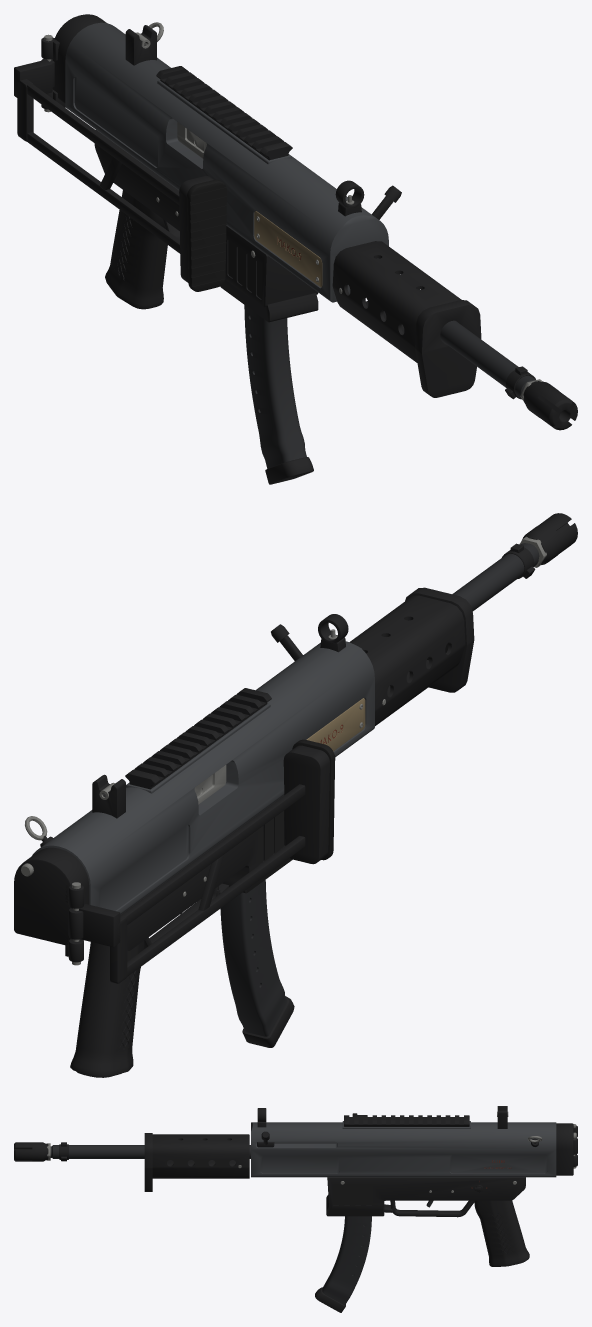
File: Mako9.fbx
The picture shows the model from 3 angles, top to bottom: view 1: azimuth 30°, elevation 25°; view 2: azimuth 150°, elevation 25°; view 3: azimuth 270°, elevation 25°; orthographic projection. The views are drawn at different scales.
Parts seen in each view (by area): view 1: RBX_Body_Graphite, RBX_Body_PolyBlack, RBX_Body_Blackened, RBX_MAKO9_Stock_Blackened, RBX_MAKO9_Magazine_DarkSteel, RBX_MAKO9_Stock_Rubber, RBX_Body_DarkSteel, RBX_Body_PolyTan, RBX_MAKO9_Stock_PolyBlack, RBX_MAKO9_Magazine_PolyBlack, RBX_Body_Steel; view 2: RBX_Body_Graphite, RBX_Body_PolyBlack, RBX_Body_Blackened, RBX_MAKO9_Stock_Blackened, RBX_MAKO9_Magazine_DarkSteel, RBX_MAKO9_Stock_PolyBlack, RBX_Body_DarkSteel, RBX_Body_PolyTan, RBX_Body_Steel, RBX_MAKO9_Stock_Rubber, RBX_MAKO9_Magazine_PolyBlack; view 3: RBX_Body_Graphite, RBX_Body_PolyBlack, RBX_Body_Blackened, RBX_MAKO9_Magazine_DarkSteel, RBX_Body_DarkSteel, RBX_MAKO9_Magazine_PolyBlack.
Part boxes in pixels (<box>): RBX_Body_Graphite: <box>65,22,388,302</box>; RBX_Body_PolyBlack: <box>94,130,481,397</box>; RBX_Body_Blackened: <box>41,14,577,430</box>; RBX_MAKO9_Stock_Blackened: <box>14,58,180,253</box>; RBX_MAKO9_Magazine_DarkSteel: <box>244,305,306,468</box>; RBX_MAKO9_Stock_Rubber: <box>187,179,226,291</box>; RBX_Body_DarkSteel: <box>440,320,535,399</box>; RBX_Body_PolyTan: <box>254,211,322,287</box>; RBX_MAKO9_Stock_PolyBlack: <box>179,176,213,282</box>; RBX_MAKO9_Magazine_PolyBlack: <box>265,457,313,484</box>; RBX_Body_Steel: <box>44,22,542,402</box>; RBX_Body_Graphite: <box>32,641,374,914</box>; RBX_Body_PolyBlack: <box>70,587,474,1076</box>; RBX_Body_Blackened: <box>14,513,577,1077</box>; RBX_MAKO9_Stock_Blackened: <box>68,784,305,983</box>; RBX_MAKO9_Magazine_DarkSteel: <box>220,880,286,1036</box>; RBX_MAKO9_Stock_PolyBlack: <box>283,745,329,864</box>; RBX_Body_DarkSteel: <box>452,543,539,611</box>; RBX_Body_PolyTan: <box>306,698,365,751</box>; RBX_Body_Steel: <box>21,536,546,965</box>; RBX_MAKO9_Stock_Rubber: <box>292,739,335,860</box>; RBX_MAKO9_Magazine_PolyBlack: <box>242,996,294,1047</box>; RBX_Body_Graphite: <box>251,1121,556,1177</box>; RBX_Body_PolyBlack: <box>144,1133,529,1266</box>; RBX_Body_Blackened: <box>14,1106,577,1266</box>; RBX_MAKO9_Magazine_DarkSteel: <box>322,1216,371,1305</box>; RBX_Body_DarkSteel: <box>50,1145,250,1158</box>; RBX_MAKO9_Magazine_PolyBlack: <box>315,1287,345,1312</box>.
Size of the model in its own units: 0.5261 by 1.3 by 3.3.
